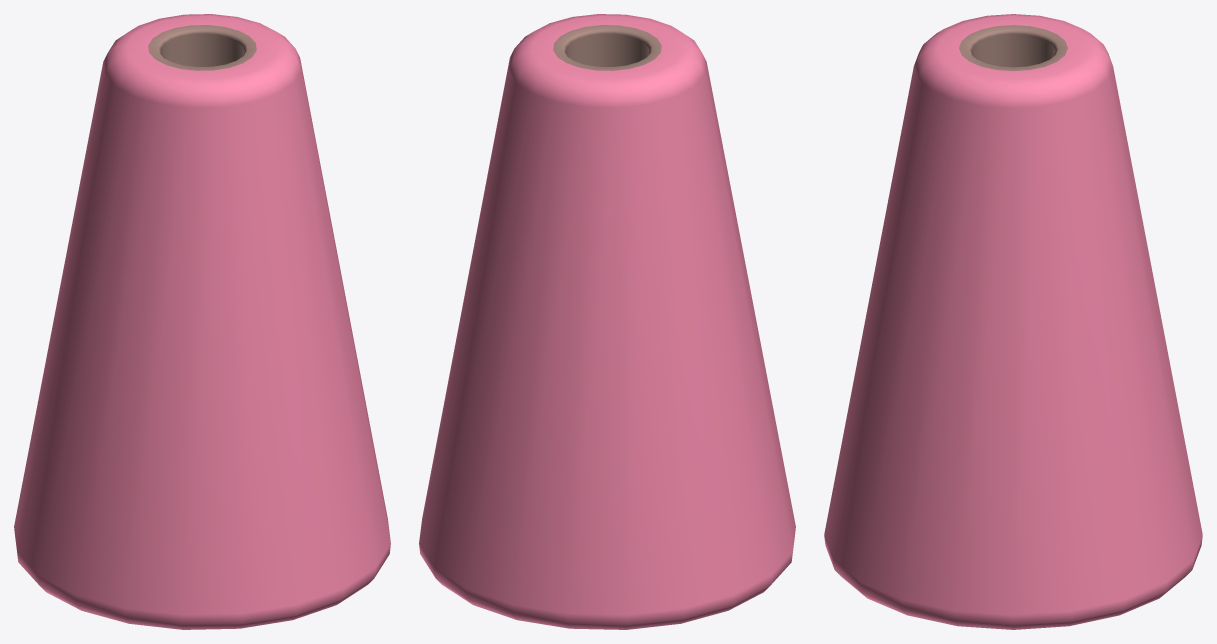
The model's file is Public_19_Skein_of_thread_8.glb.
3 views of the same model, side by side, from view 1: azimuth 30°, elevation 25°; view 2: azimuth 150°, elevation 25°; view 3: azimuth 270°, elevation 25° (orthographic).
Visible parts, largest first — view 1: Public_19_Skein_of_thread_8; view 2: Public_19_Skein_of_thread_8; view 3: Public_19_Skein_of_thread_8.
Part boxes in pixels (x1=…): Public_19_Skein_of_thread_8: x1=14, y1=14, x2=390, y2=629; Public_19_Skein_of_thread_8: x1=419, y1=14, x2=795, y2=629; Public_19_Skein_of_thread_8: x1=824, y1=14, x2=1202, y2=629.
Bounding box in the file's own units: 0.3044 × 0.4513 × 0.3044.
Materials: 1 (1 with a texture image).
